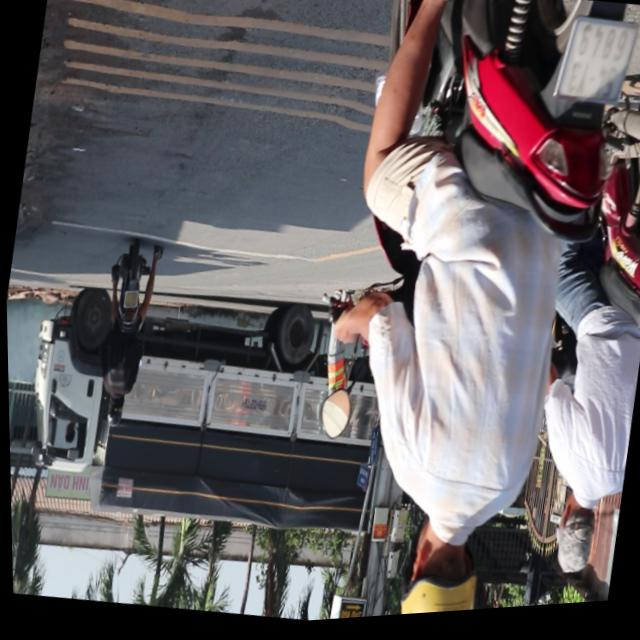helmet: (392, 519, 485, 620)
licenseplate: (267, 0, 640, 626), (499, 49, 640, 590)
motorcyclist: (546, 496, 602, 586)
nohelmet: (557, 23, 639, 119)
